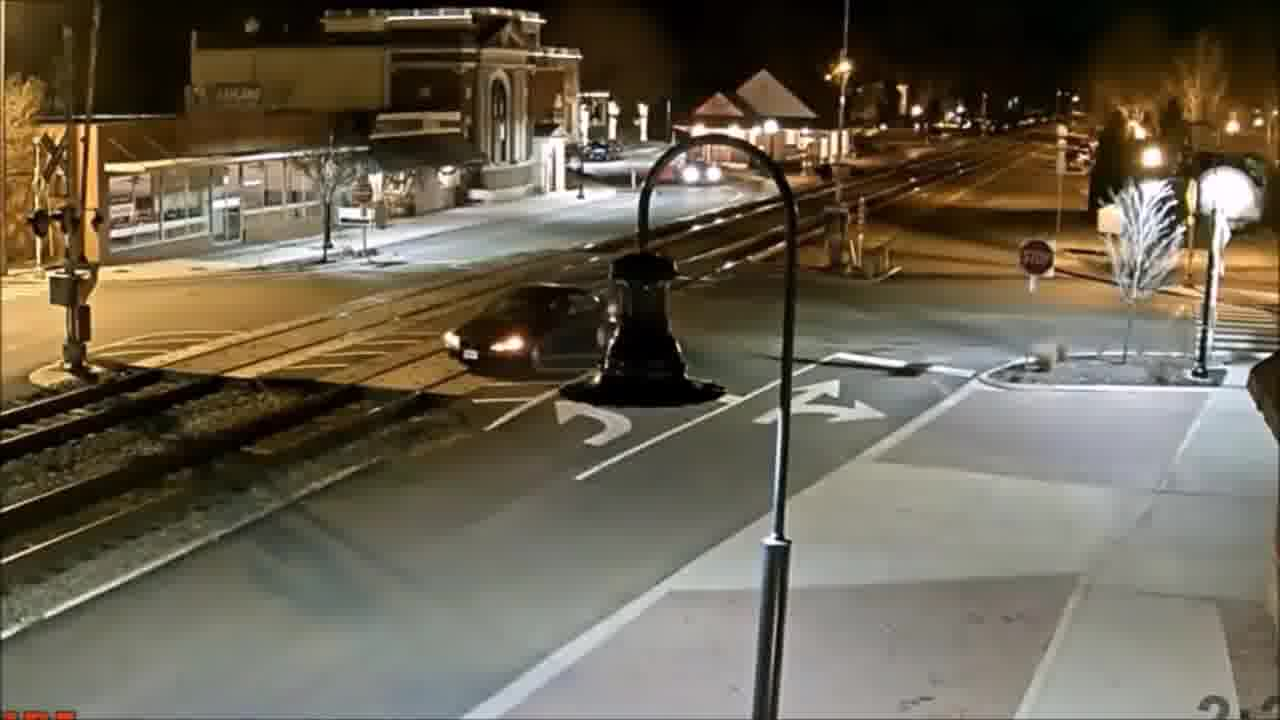crossing railway track: (440, 280, 624, 376)
